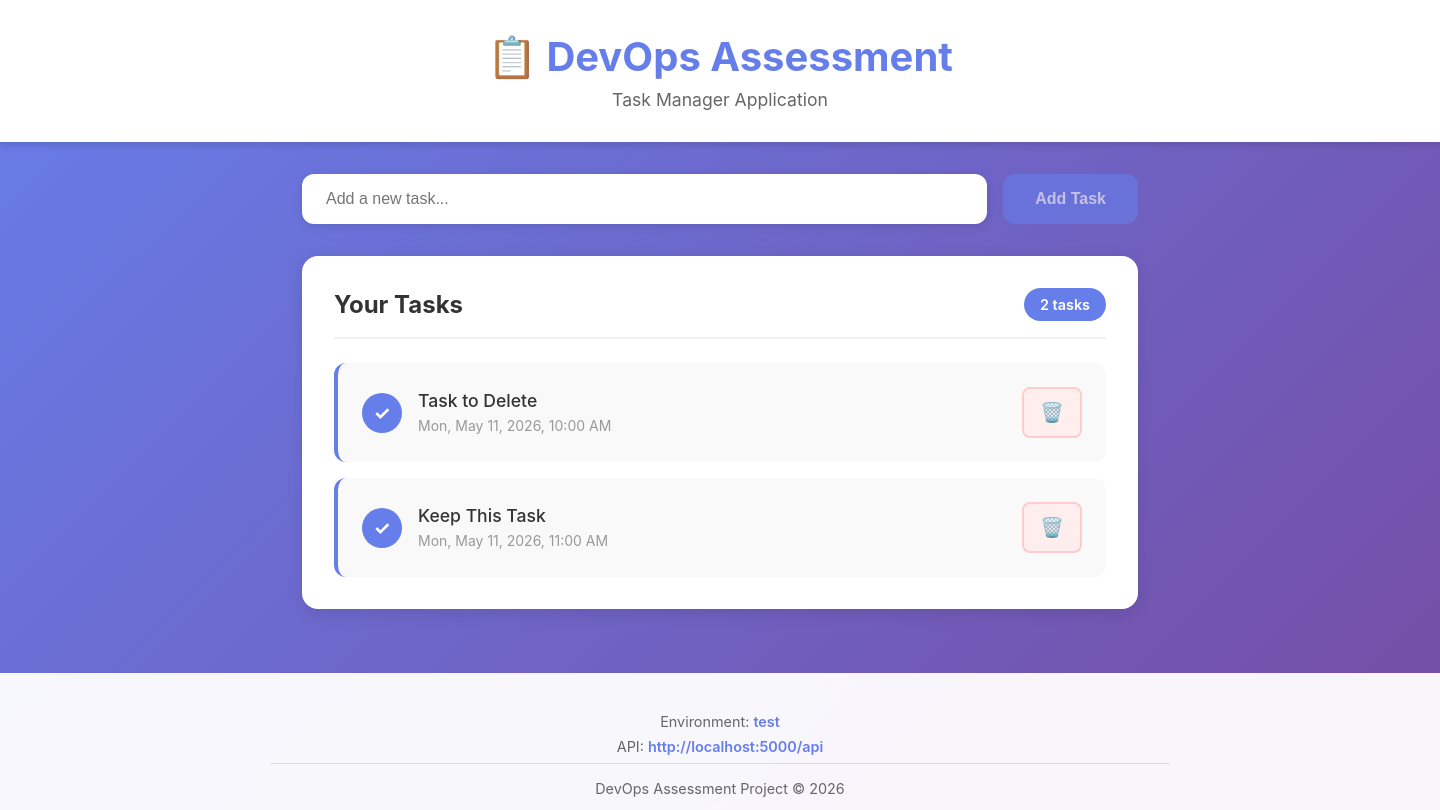
Test: App Component › deletes item successfully
Expected: the heading "Task to Delete" is shown, [418, 390, 537, 411]
Click the button titled "Delete task" in the row of "Mon, May 11, 2026, 10:00 AM".
click(1052, 412)  # box [1022, 387, 1082, 438]
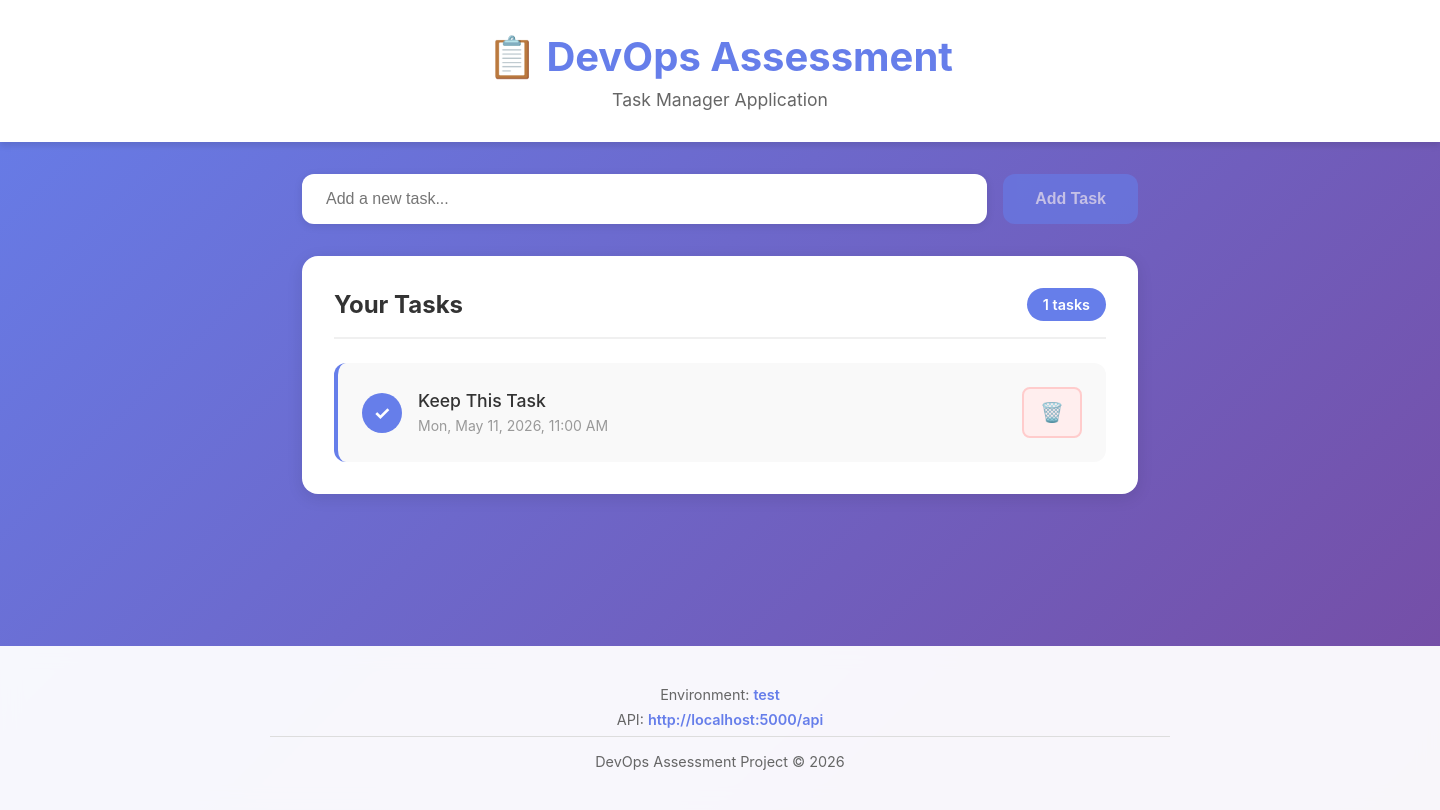
Expected: the heading "Keep This Task" is shown, [418, 390, 546, 411]
Now the heading "Task to Delete" is gone
